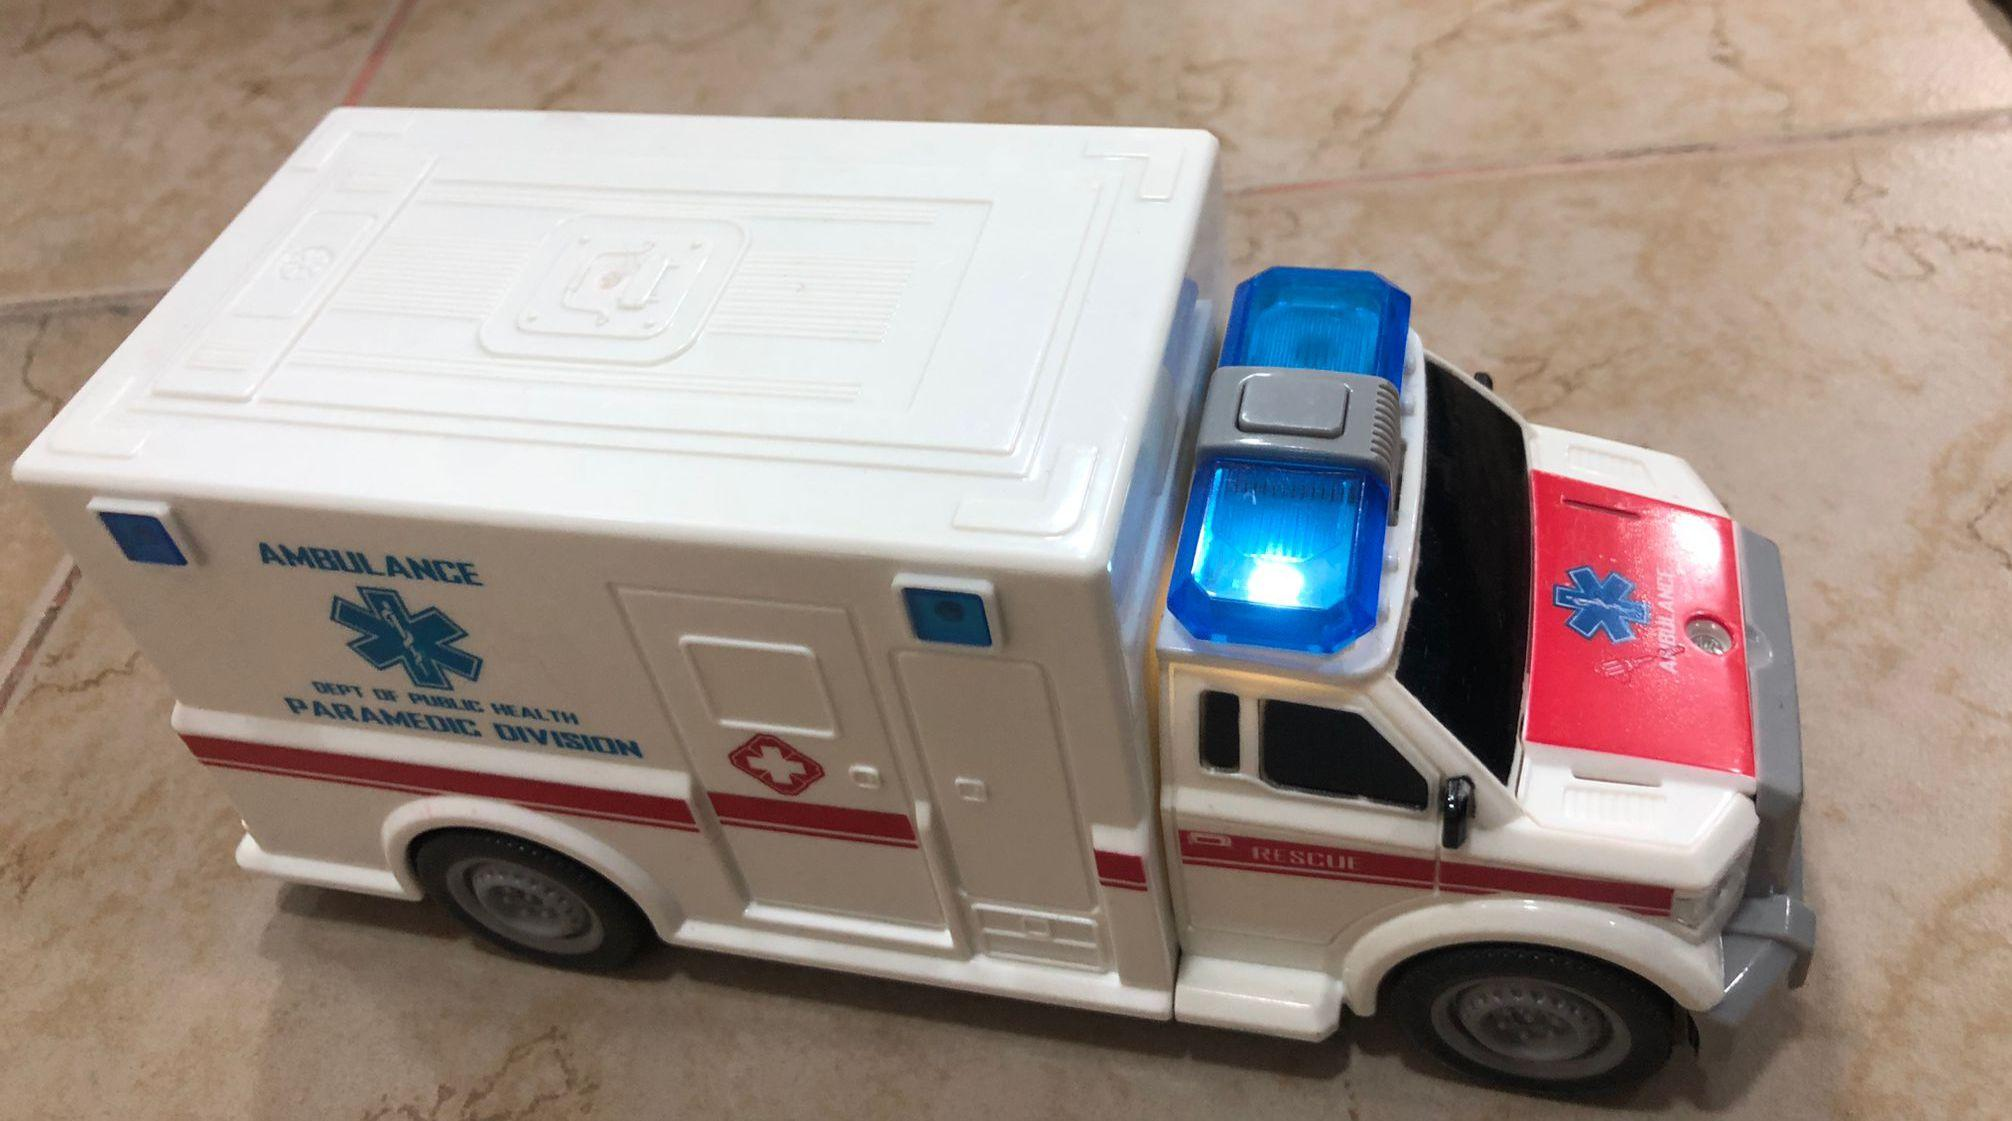ambulance_on: (15, 106, 1824, 1088)
